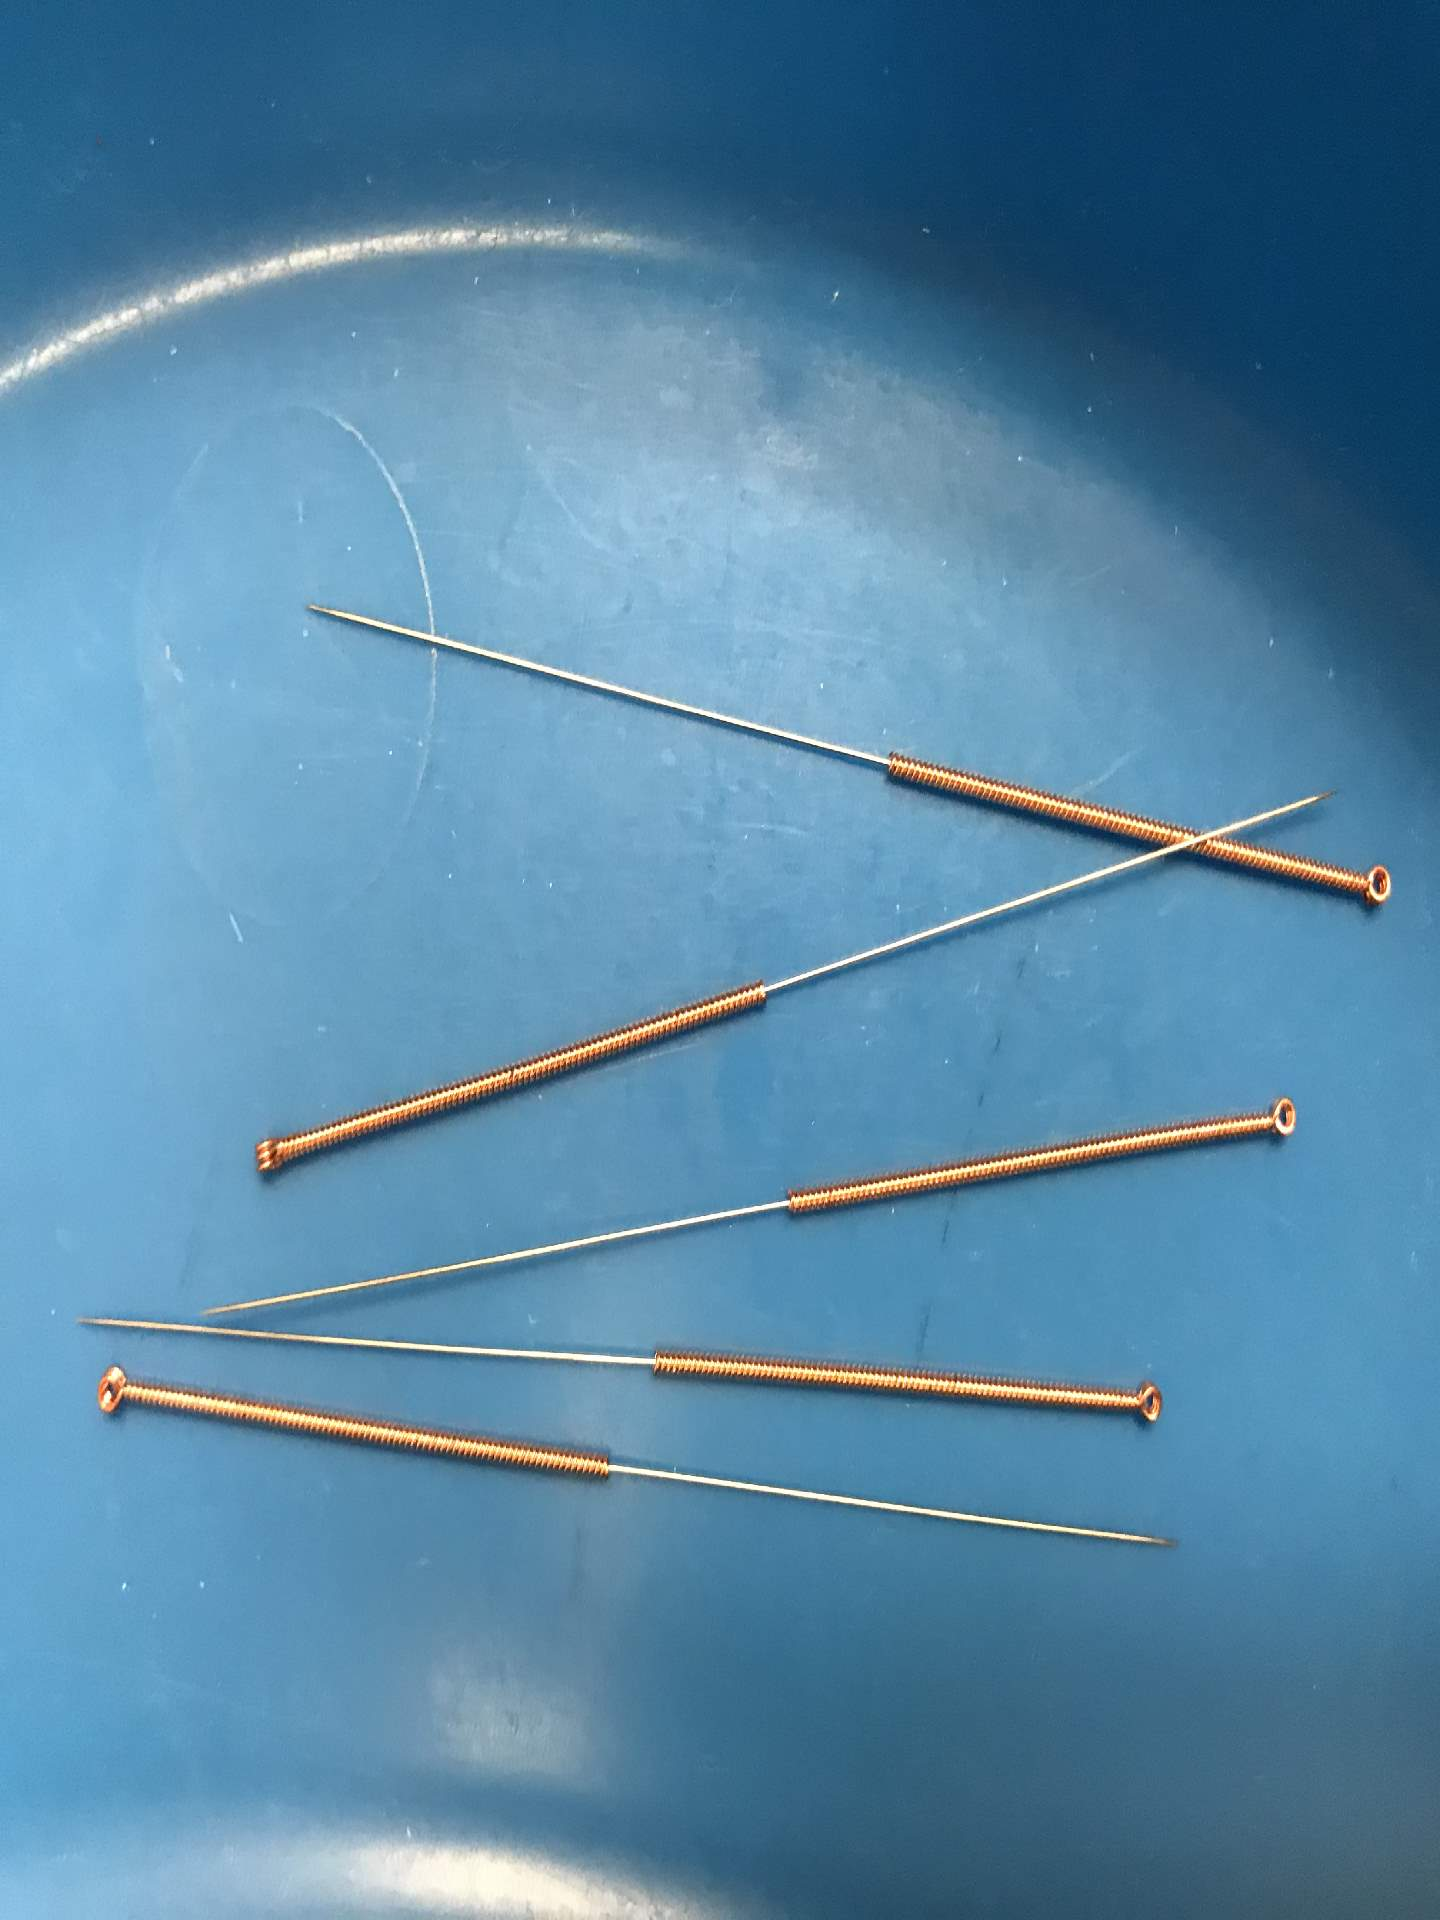needle: (76, 1355, 147, 1432), (234, 1120, 301, 1190), (1345, 851, 1405, 924), (1119, 1367, 1177, 1441), (1252, 1084, 1311, 1155)
